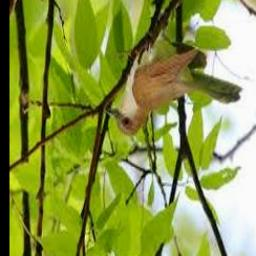Cuckoo: (106, 43, 242, 136)
